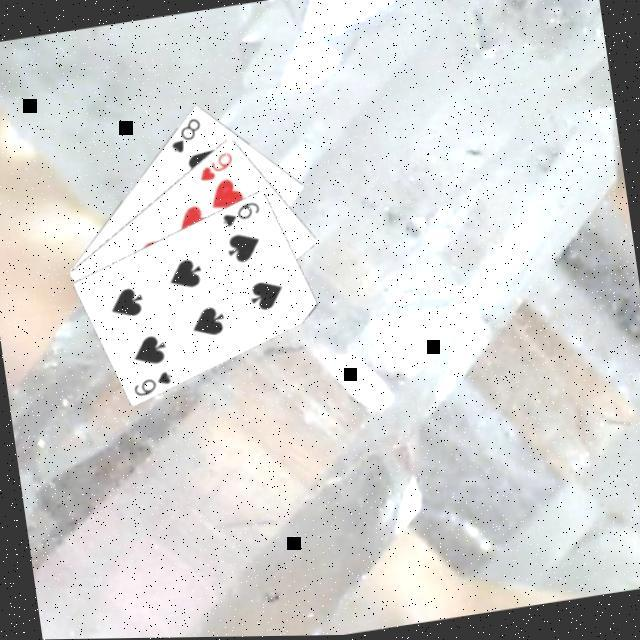6S: (130, 366, 177, 400), (218, 197, 266, 230)
8S: (165, 113, 208, 157)
9H: (194, 147, 240, 185)
